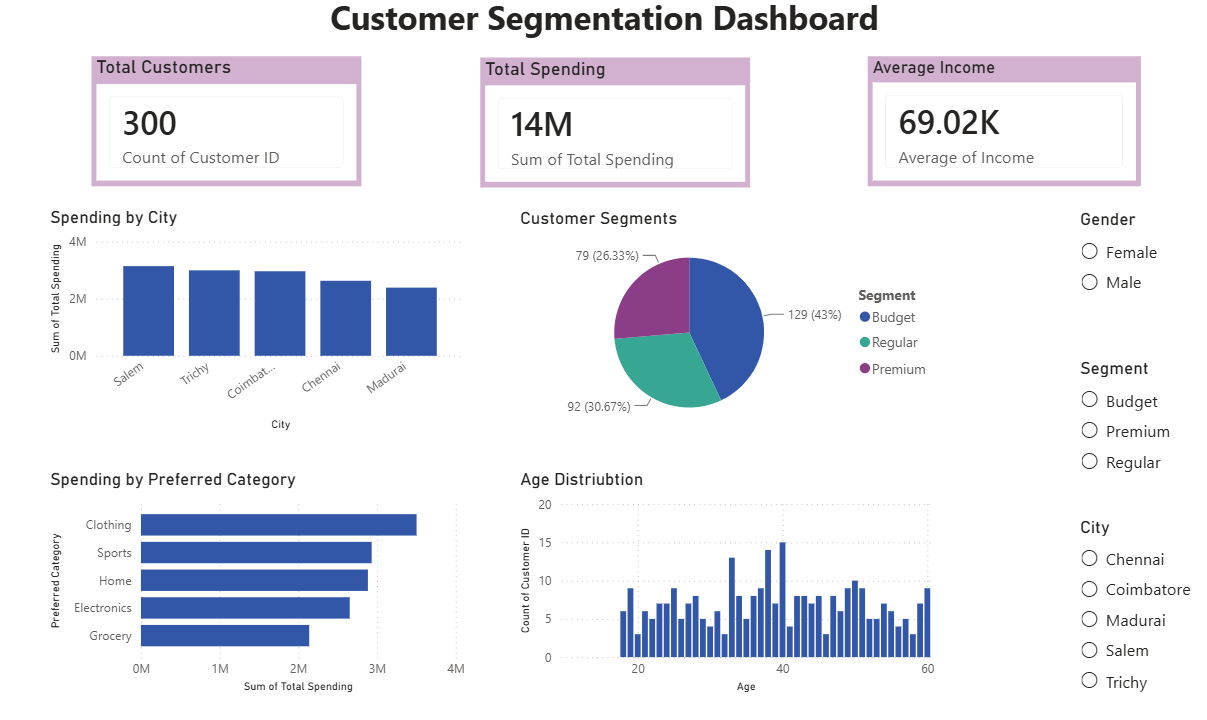

Layout of this report page (visuals, bound fields, positions):
{"tool":"powerbi","page":{"name":"Page 1","canvas":[1280,720],"ordinal":0},"visuals":[{"type":"cardVisual","title":"Total Customers","fields":{"Data":["CountNonNull(Sheet.Customer ID)"]},"box":[110,64.3,264.3,127.1],"z":0},{"type":"cardVisual","title":"Total Spending","fields":{"Data":["Sum(Sheet.Total Spending)"]},"box":[490,65.7,264.3,127.1],"z":1000},{"type":"cardVisual","title":"Average Income","fields":{"Data":["Avg(Sheet.Income)"]},"box":[870,64.3,267.1,127.1],"z":2000},{"type":"pieChart","title":" Customer  Segments","fields":{"Category":["Sheet.Segment"],"Y":["CountNonNull(Sheet.Customer ID)"]},"box":[524.3,212.9,415.7,224.3],"z":3000},{"type":"clusteredColumnChart","title":"Spending by City","fields":{"Category":["Sheet.City"],"Y":["Sum(Sheet.Total Spending)"]},"box":[64.3,211.4,415.7,224.3],"z":4000},{"type":"clusteredBarChart","title":" Spending by Preferred Category","fields":{"Category":["Sheet.Preferred Category"],"Y":["Sum(Sheet.Total Spending)"]},"box":[64.3,468.6,415.7,224.3],"z":5000},{"type":"clusteredColumnChart","title":" Age Distriubtion","fields":{"Category":["Sheet.Age"],"Y":["CountNonNull(Sheet.Customer ID)"]},"box":[524.3,468.6,415.7,224.3],"z":6000},{"type":"listSlicer","fields":{"Values":["Sheet.City"]},"box":[1072.9,514.3,181.4,178.6],"z":7000},{"type":"listSlicer","fields":{"Values":["Sheet.Gender"]},"box":[1072.9,214.3,181.4,111.4],"z":8000},{"type":"listSlicer","fields":{"Values":["Sheet.Segment"]},"box":[1072.9,360,181.4,132.9],"z":9000},{"type":"textbox","box":[338.6,0,548.6,64.3],"z":12000}]}

Visuals, with their boxes on the page's 1280x720 design canvas (x1, y1, x2, y2). These are canvas units, not pixel positions in the 1207x720 screenshot, which may show the page scaled, cropped or inside an application window:
"Total Customers" cardVisual: <box>110,64,374,191</box>
"Total Spending" cardVisual: <box>490,66,754,193</box>
"Average Income" cardVisual: <box>870,64,1137,191</box>
" Customer  Segments" pieChart: <box>524,213,940,437</box>
"Spending by City" clusteredColumnChart: <box>64,211,480,436</box>
" Spending by Preferred Category" clusteredBarChart: <box>64,469,480,693</box>
" Age Distriubtion" clusteredColumnChart: <box>524,469,940,693</box>
listSlicer - Sheet.City: <box>1073,514,1254,693</box>
listSlicer - Sheet.Gender: <box>1073,214,1254,326</box>
listSlicer - Sheet.Segment: <box>1073,360,1254,493</box>
textbox: <box>339,0,887,64</box>
